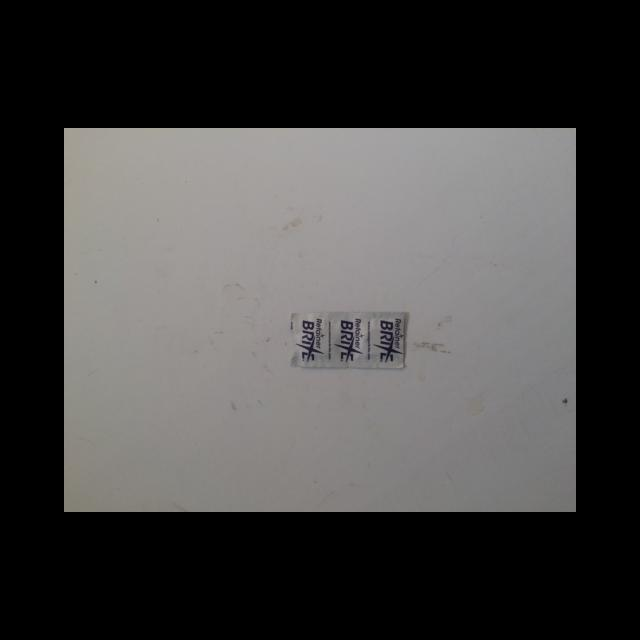plastic: (289, 311, 404, 369)
